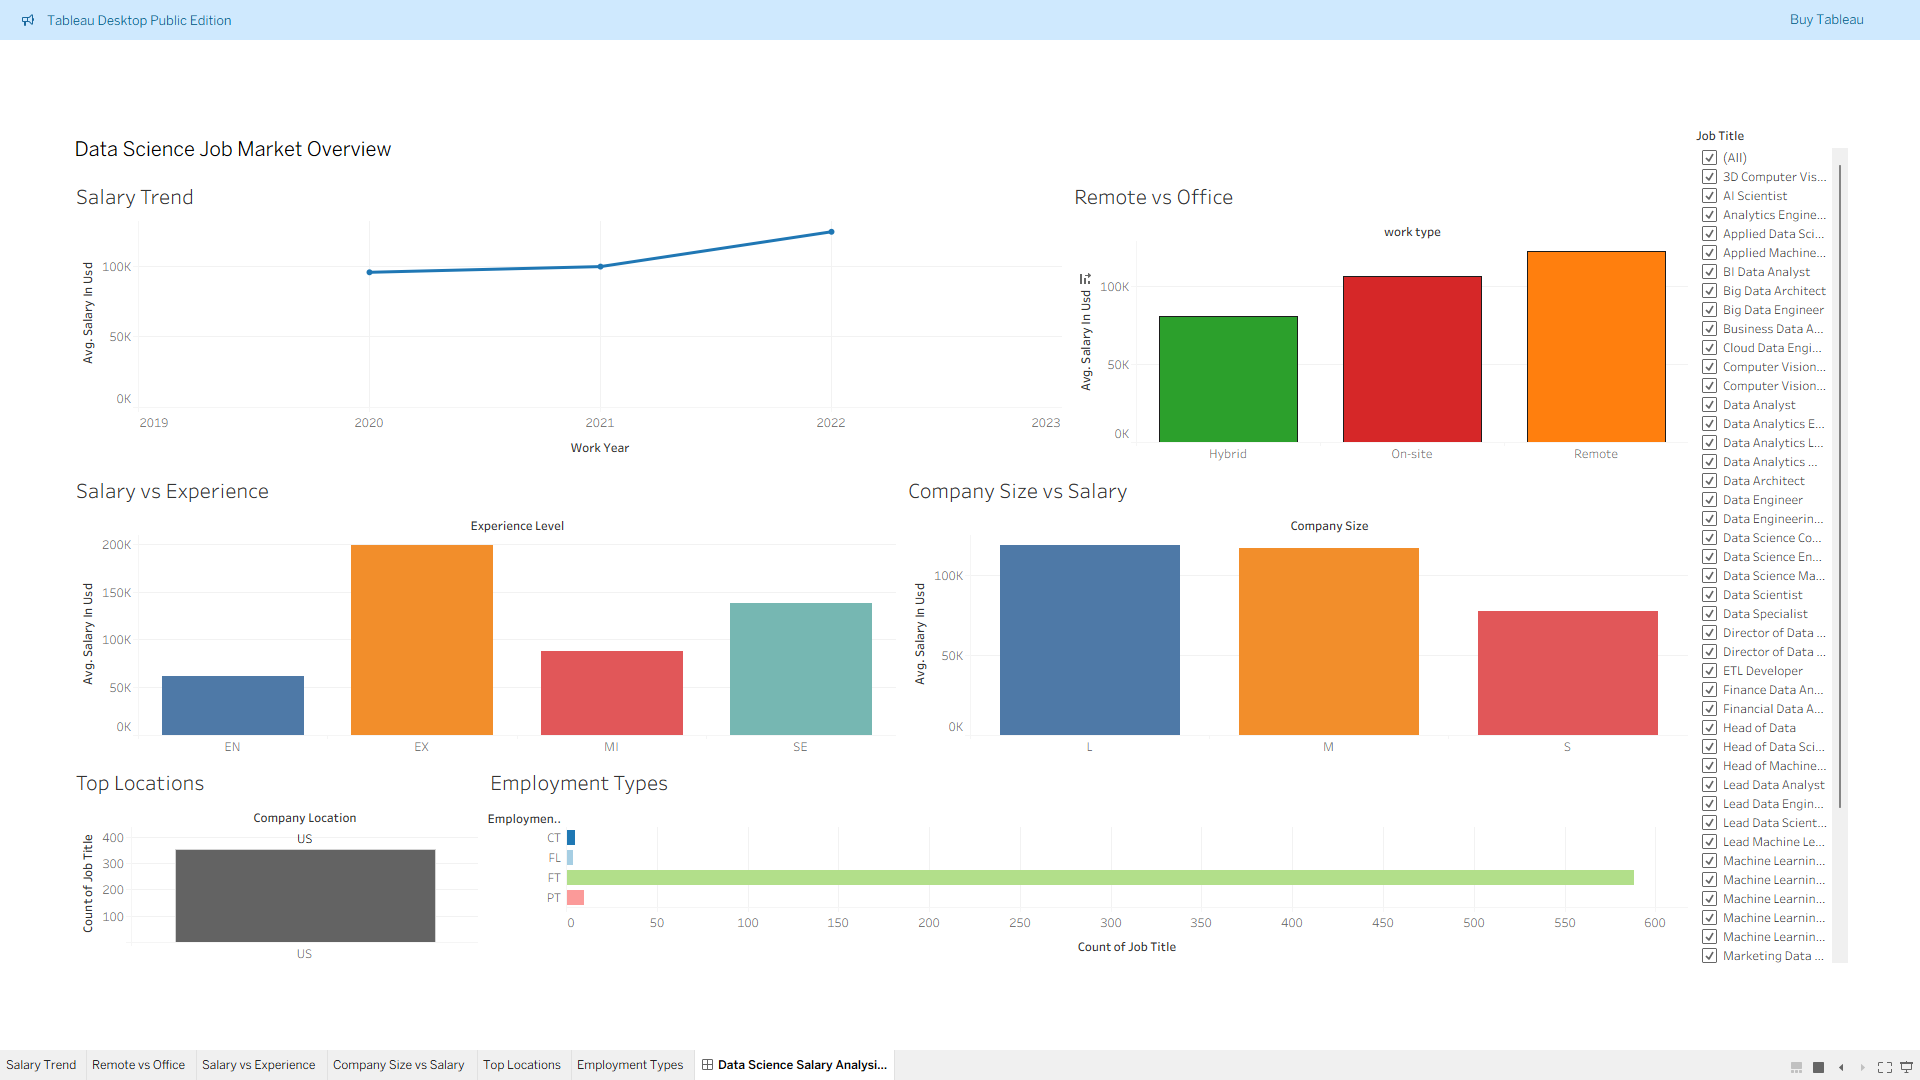

Layout of this report page (visuals, bound fields, positions):
{"tool":"tableau","page":{"name":"Data Science Salary Analysis Dashboard","canvas":[1000,1000],"units":"permille","ordinal":0},"visuals":[{"type":"text","box":[4.7,9.3,897,59.5]},{"type":"filter","title":"Top Locations","param":"[federated.13w2n4z0ozuqwk1h6vxru0d8s1df].[none:job_title:nk]","box":[901.7,9.3,93.6,981.3]},{"type":"worksheet","title":"Salary Trend","mark":"Line","rows":["salary_in_usd"],"cols":["work_year"],"box":[4.7,68.9,551.2,341.1]},{"type":"worksheet","title":"Remote vs Office","mark":"Automatic","rows":["salary_in_usd"],"cols":["Calculation_1682657445302001664"],"box":[555.9,68.9,345.8,341.1]},{"type":"worksheet","title":"Salary vs Experience","mark":"Automatic","rows":["salary_in_usd"],"cols":["experience_level"],"box":[4.7,410,486.8,339.9]},{"type":"worksheet","title":"Company Size vs Salary","mark":"Automatic","rows":["salary_in_usd"],"cols":["company_size"],"box":[491.5,410,410.2,339.9]},{"type":"worksheet","title":"Top Locations","mark":"Automatic","rows":["job_title"],"cols":["company_location"],"box":[4.7,750,228.8,240.7]},{"type":"worksheet","title":"Employment Types","mark":"Automatic","rows":["employment_type"],"cols":["job_title"],"box":[233.5,750,668.2,240.7]}]}

Visuals, with their boxes on the dashboard's canvas, which has no fixed pixel size, in thousandths of its width and height (x1, y1, x2, y2). These are canvas units, not pixel positions in the 1920x1080 screenshot, which may show the page scaled, cropped or inside an application window:
text: l=5, t=9, r=902, b=69
"Top Locations" filter: l=902, t=9, r=995, b=991
"Salary Trend" worksheet (Line marks): l=5, t=69, r=556, b=410
"Remote vs Office" worksheet: l=556, t=69, r=902, b=410
"Salary vs Experience" worksheet: l=5, t=410, r=492, b=750
"Company Size vs Salary" worksheet: l=492, t=410, r=902, b=750
"Top Locations" worksheet: l=5, t=750, r=234, b=991
"Employment Types" worksheet: l=234, t=750, r=902, b=991
